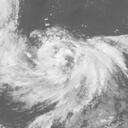cyclone: (19, 29, 108, 101)
